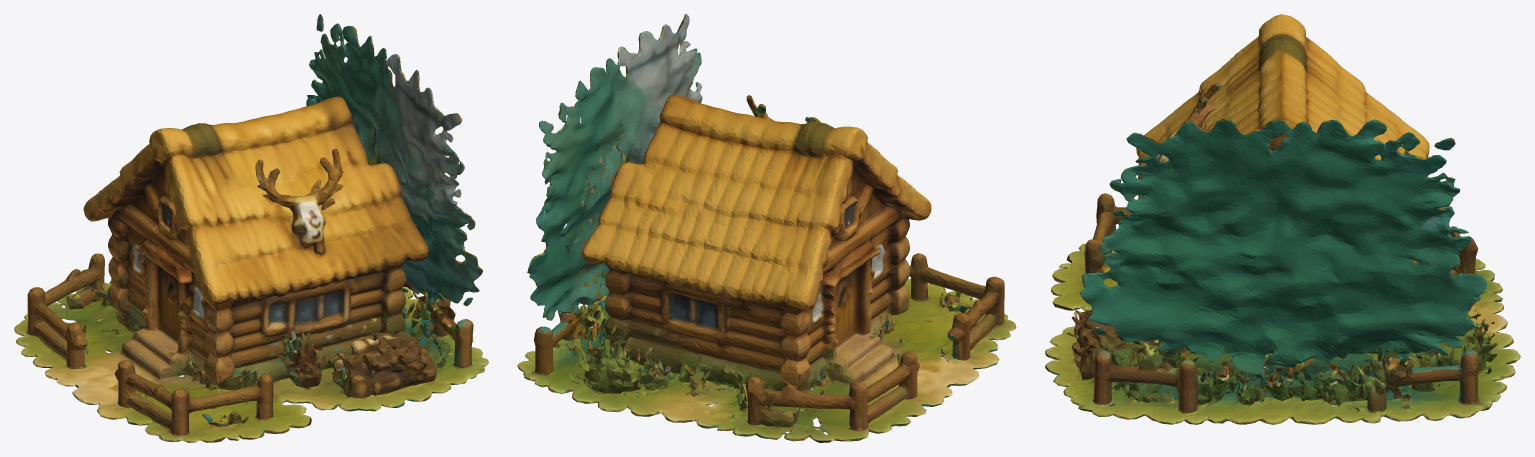
File: wc-cottage_b-paint.glb
The picture shows the model from 3 angles, left to right: view 1: azimuth 30°, elevation 25°; view 2: azimuth 150°, elevation 25°; view 3: azimuth 270°, elevation 25°; orthographic projection. The views are drawn at different scales.
Parts seen in each view (by area): view 1: geometry_0; view 2: geometry_0; view 3: geometry_0.
Boxes of the visible parts, x1,y1,x2,y2 form: geometry_0: (14,14,488,442); geometry_0: (517,14,1016,442); geometry_0: (1045,14,1520,424).
Bounding box in the file's own units: 1.99 × 1.52 × 1.99.
1 material, 1 textured.
